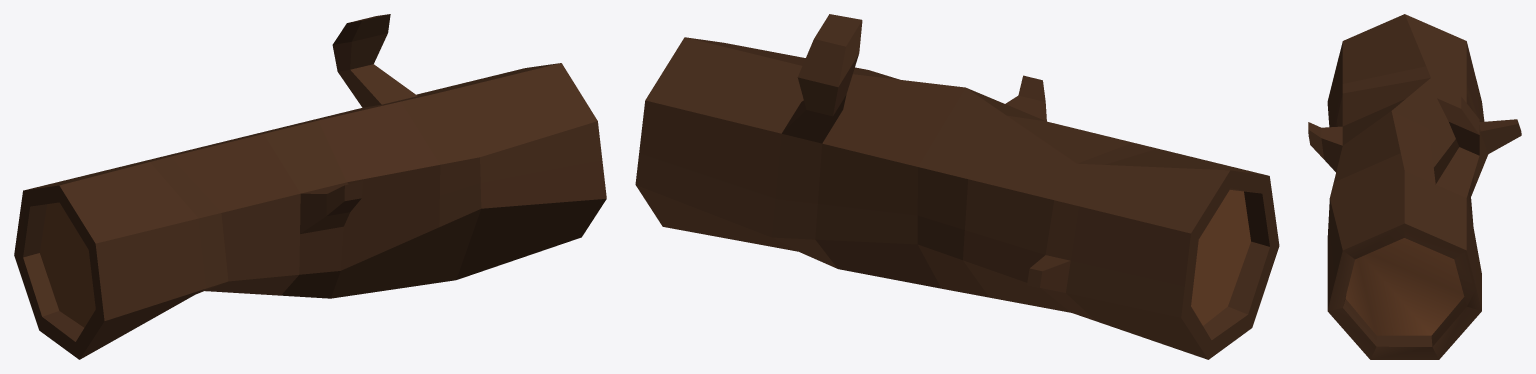
The model's file is Log_5_Dark_Brown.fbx.
3 views of the same model, side by side, from view 1: azimuth 30°, elevation 25°; view 2: azimuth 150°, elevation 25°; view 3: azimuth 270°, elevation 25° (orthographic). The views are drawn at different scales.
Visible parts, largest first — view 1: Log_5_Dark_Brown_Part_1, Log_5_Dark_Brown_Part_2; view 2: Log_5_Dark_Brown_Part_1, Log_5_Dark_Brown_Part_2; view 3: Log_5_Dark_Brown_Part_1, Log_5_Dark_Brown_Part_2.
Part boxes in pixels (<box>): Log_5_Dark_Brown_Part_1: <box>14,63,606,359</box>; Log_5_Dark_Brown_Part_2: <box>300,14,417,233</box>; Log_5_Dark_Brown_Part_1: <box>635,37,1279,359</box>; Log_5_Dark_Brown_Part_2: <box>782,14,1070,292</box>; Log_5_Dark_Brown_Part_1: <box>1327,14,1488,359</box>; Log_5_Dark_Brown_Part_2: <box>1308,85,1521,197</box>.
Bounding box in the file's own units: 250 × 117 × 108.
